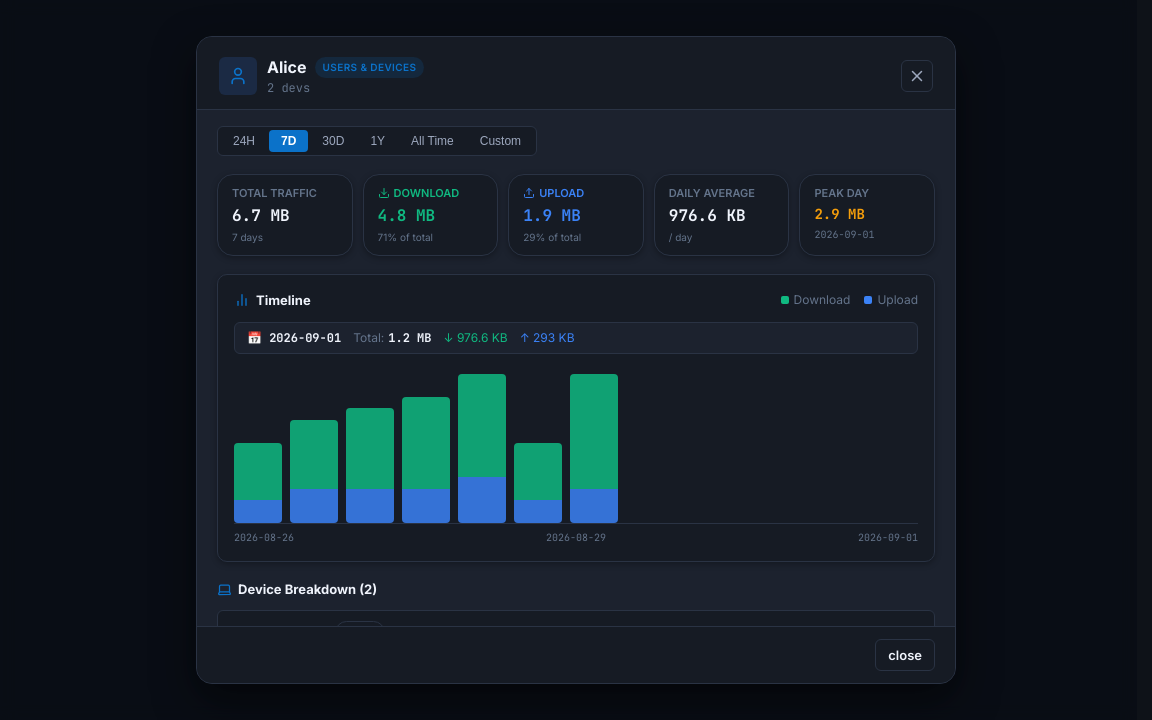
Test: TrafficHistoryModal component › renders the 1Y view as a weekly breakdown
What coordinates should you click on to do the following:
click the button "1Y"
I would click on:
 (378, 141)
Its box is [358,130,397,152].
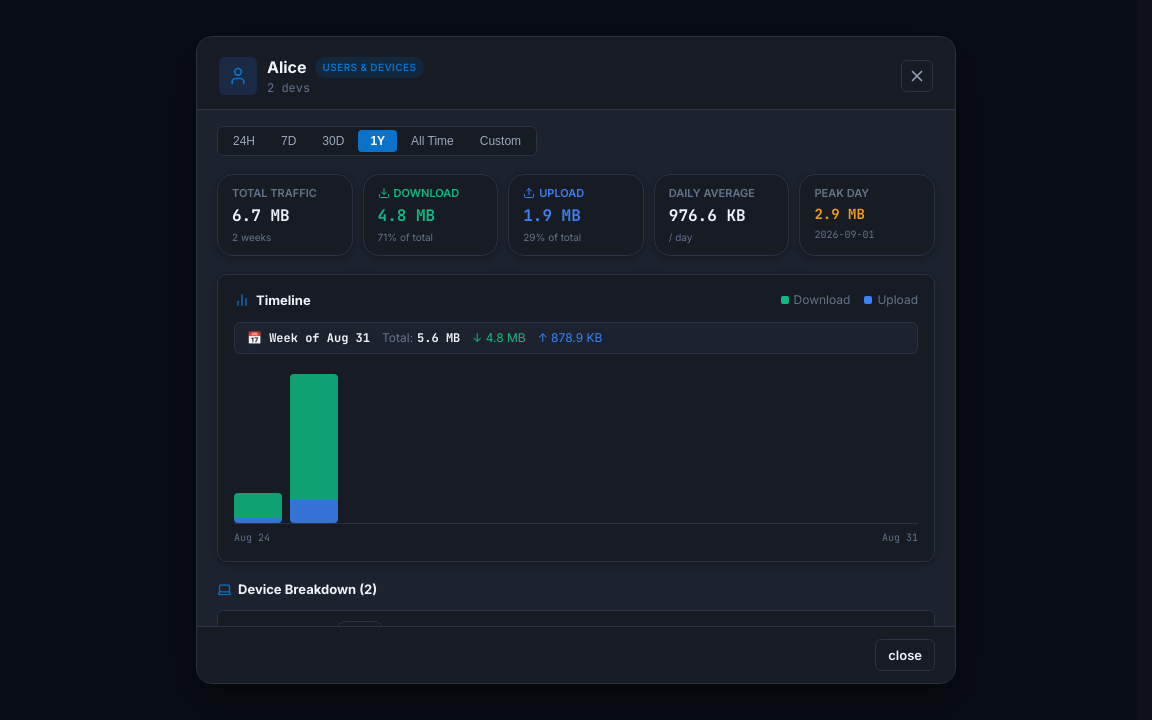
Now the text "2 weeks" is shown, box [232,230,271,242]
